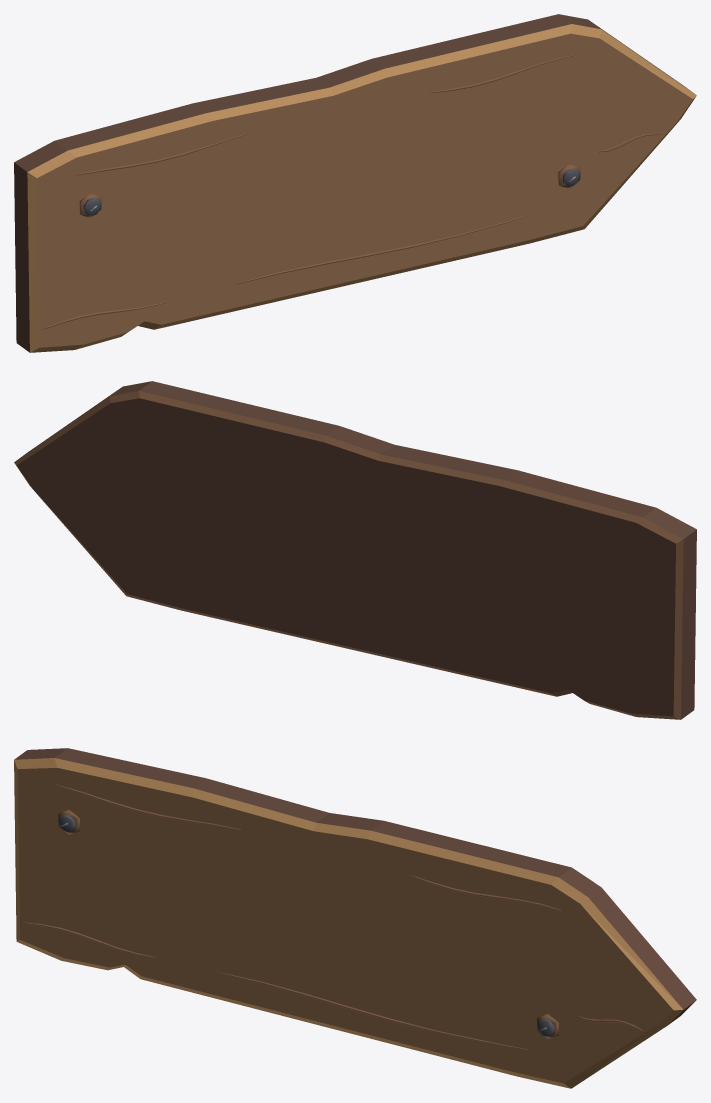
The model's file is way_board.glb.
3 renders of one model, top to bottom at view 1: azimuth 30°, elevation 25°; view 2: azimuth 150°, elevation 25°; view 3: azimuth 330°, elevation 25°, orthographic.
Visible parts, largest first — view 1: way_board; view 2: way_board; view 3: way_board.
Boxes of the visible parts, box(x1,y1,x2,y2) form: way_board: box(14, 14, 696, 352); way_board: box(14, 381, 696, 719); way_board: box(14, 748, 696, 1088).
Bounding box in the file's own units: 0.8 × 0.24 × 0.05.
